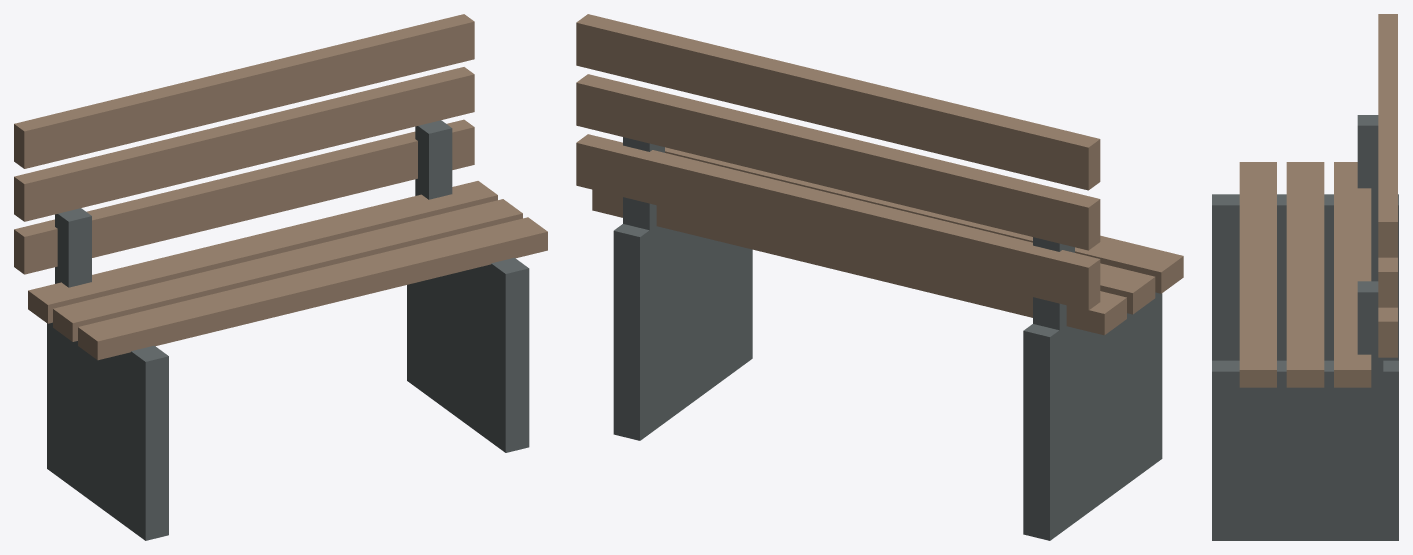
Rendered from park_bench.glb.
3 renders of one model, left to right at view 1: azimuth 30°, elevation 25°; view 2: azimuth 150°, elevation 25°; view 3: azimuth 270°, elevation 25°, orthographic. The views are drawn at different scales.
Visible parts, largest first — view 1: m8, m9, m0, m7, m2, m6, m5, m4, m3, m1; view 2: m8, m9, m7, m0, m2, m4, m6, m3, m1, m5; view 3: m2, m5, m0, m6, m4, m9, m1, m3, m7, m8.
Part boxes in pixels (x1=…): m8: x1=14, y1=67, x2=474, y2=221; m9: x1=14, y1=14, x2=474, y2=168; m0: x1=47, y1=322, x2=168, y2=540; m7: x1=14, y1=119, x2=474, y2=274; m2: x1=407, y1=257, x2=529, y2=452; m6: x1=78, y1=217, x2=547, y2=360; m5: x1=53, y1=199, x2=522, y2=341; m4: x1=28, y1=181, x2=497, y2=323; m3: x1=415, y1=120, x2=452, y2=303; m1: x1=55, y1=208, x2=91, y2=287; m8: x1=576, y1=74, x2=1100, y2=250; m9: x1=576, y1=14, x2=1100, y2=190; m7: x1=576, y1=134, x2=1100, y2=310; m0: x1=1023, y1=292, x2=1162, y2=540; m2: x1=613, y1=224, x2=752, y2=440; m4: x1=592, y1=189, x2=1126, y2=335; m6: x1=665, y1=147, x2=1183, y2=293; m3: x1=623, y1=137, x2=664, y2=326; m1: x1=1033, y1=237, x2=1074, y2=426; m5: x1=1100, y1=263, x2=1155, y2=314; m2: x1=1212, y1=360, x2=1398, y2=540; m5: x1=1286, y1=162, x2=1324, y2=387; m0: x1=1212, y1=194, x2=1398, y2=360; m6: x1=1239, y1=162, x2=1276, y2=387; m4: x1=1334, y1=162, x2=1371, y2=387; m9: x1=1378, y1=14, x2=1397, y2=257; m1: x1=1357, y1=115, x2=1378, y2=281; m3: x1=1357, y1=281, x2=1383, y2=452; m7: x1=1378, y1=307, x2=1397, y2=357; m8: x1=1378, y1=257, x2=1397, y2=307.
Bounding box in the file's own units: 2.5 × 1.87 × 0.95.
